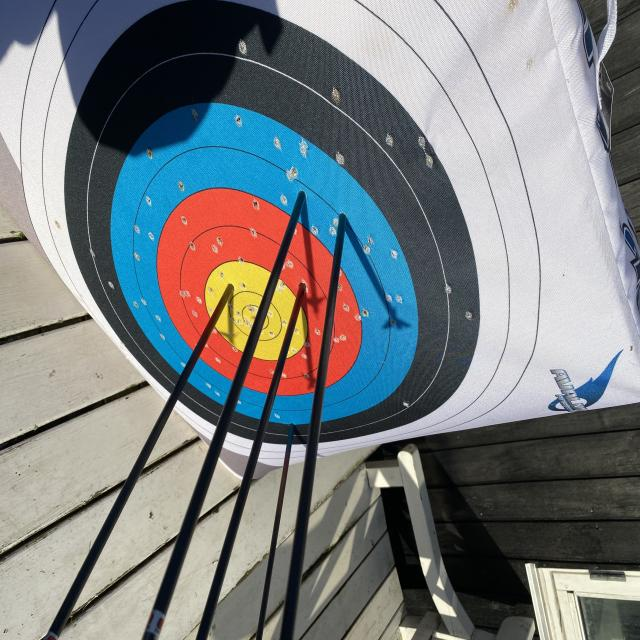Arrow_Black: (284, 412, 300, 446)
Arrow_Blue: (328, 203, 357, 246), (286, 186, 319, 210)
Arrow_Red: (286, 271, 312, 306)
Arrow_Yellow: (220, 276, 240, 311)
